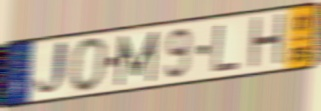9: (163, 25, 194, 81)
H: (247, 11, 287, 73)
J: (32, 38, 70, 101)
L: (210, 22, 242, 75)
M: (115, 29, 160, 89)
O: (69, 35, 110, 94)
